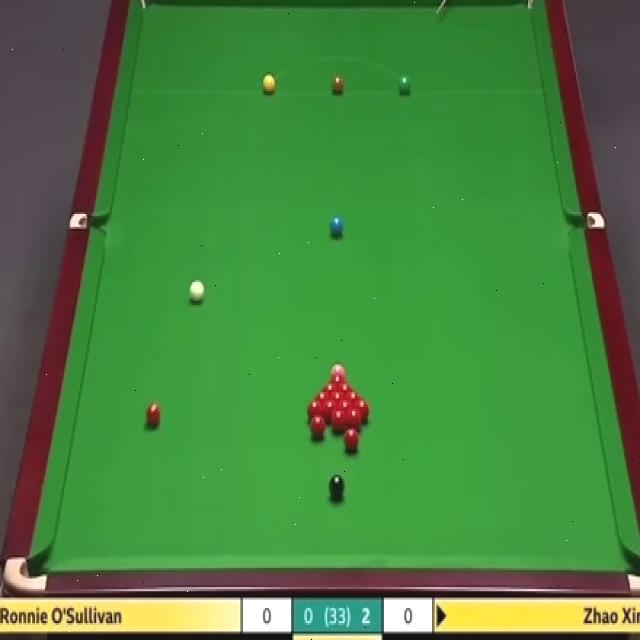black-ball: (329, 475, 344, 498)
blue-ball: (330, 214, 344, 237)
brown-ball: (330, 72, 344, 96)
green-ball: (397, 73, 411, 95)
pink-ball: (330, 363, 348, 377)
red-ball: (146, 401, 160, 427), (344, 428, 359, 452), (348, 408, 362, 432), (347, 391, 361, 414), (312, 415, 326, 438), (355, 398, 369, 419), (323, 401, 337, 421), (332, 411, 345, 432), (307, 402, 322, 420), (339, 402, 352, 422), (315, 392, 330, 401), (330, 394, 347, 400)
white-ball: (189, 277, 206, 304)
yellow-ball: (262, 75, 276, 95)
